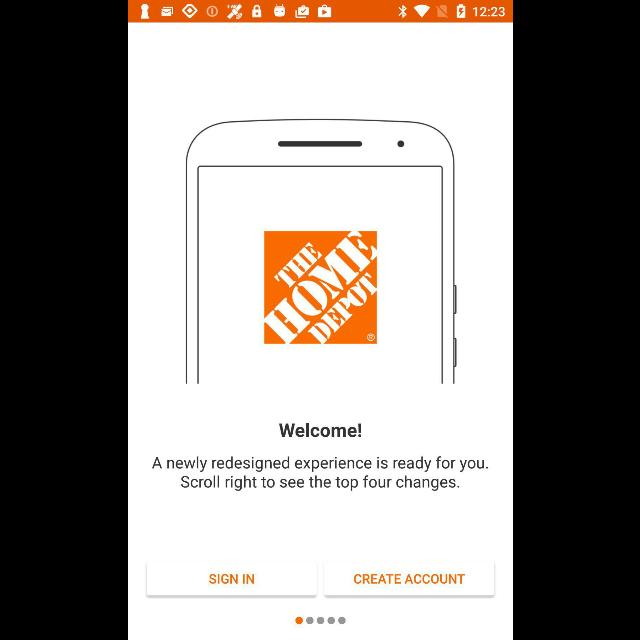image: (184, 118, 456, 384)
pageindicator: (294, 616, 346, 626)
text: (150, 455, 488, 491), (278, 422, 360, 438)
textbutton: (322, 560, 493, 596), (146, 560, 316, 596)
uppertaskbar: (128, 1, 512, 23)
